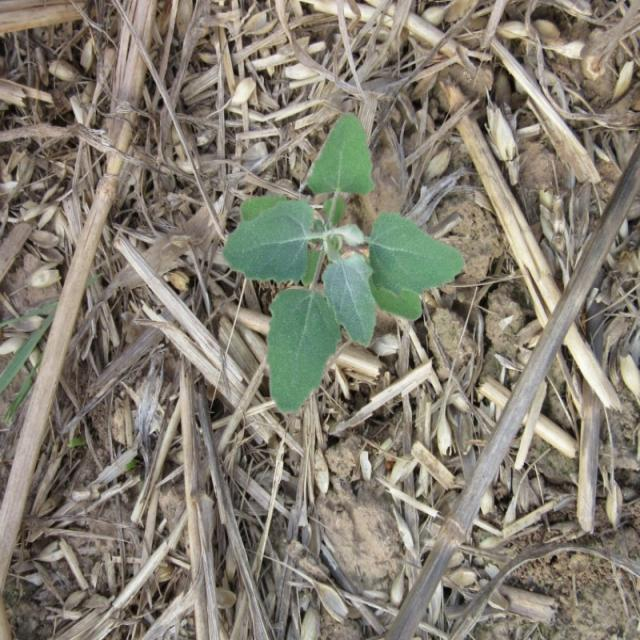ca: (224, 115, 460, 409)
